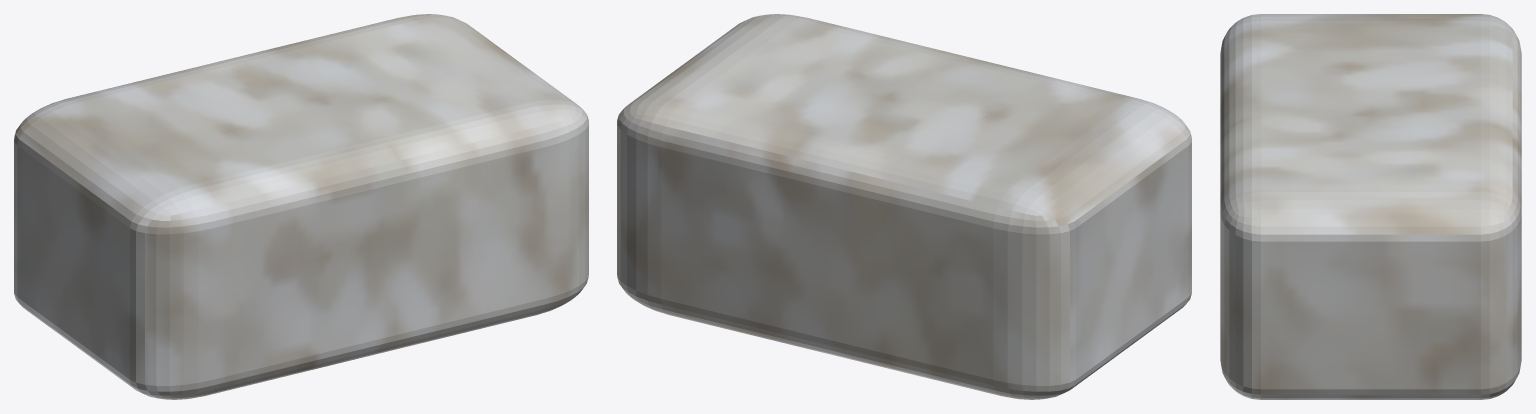
File: syari.fbx
3 renders of one model, left to right at view 1: azimuth 30°, elevation 25°; view 2: azimuth 150°, elevation 25°; view 3: azimuth 270°, elevation 25°, orthographic. The views are drawn at different scales.
Parts seen in each view (by area): view 1: Cube; view 2: Cube; view 3: Cube.
Boxes of the visible parts, x1,y1,x2,y2 form: Cube: (14, 14, 588, 399); Cube: (617, 14, 1191, 399); Cube: (1220, 14, 1521, 399).
Size of the model in its own units: 7.27 by 3.16 by 4.27.
1 material, 1 textured.
